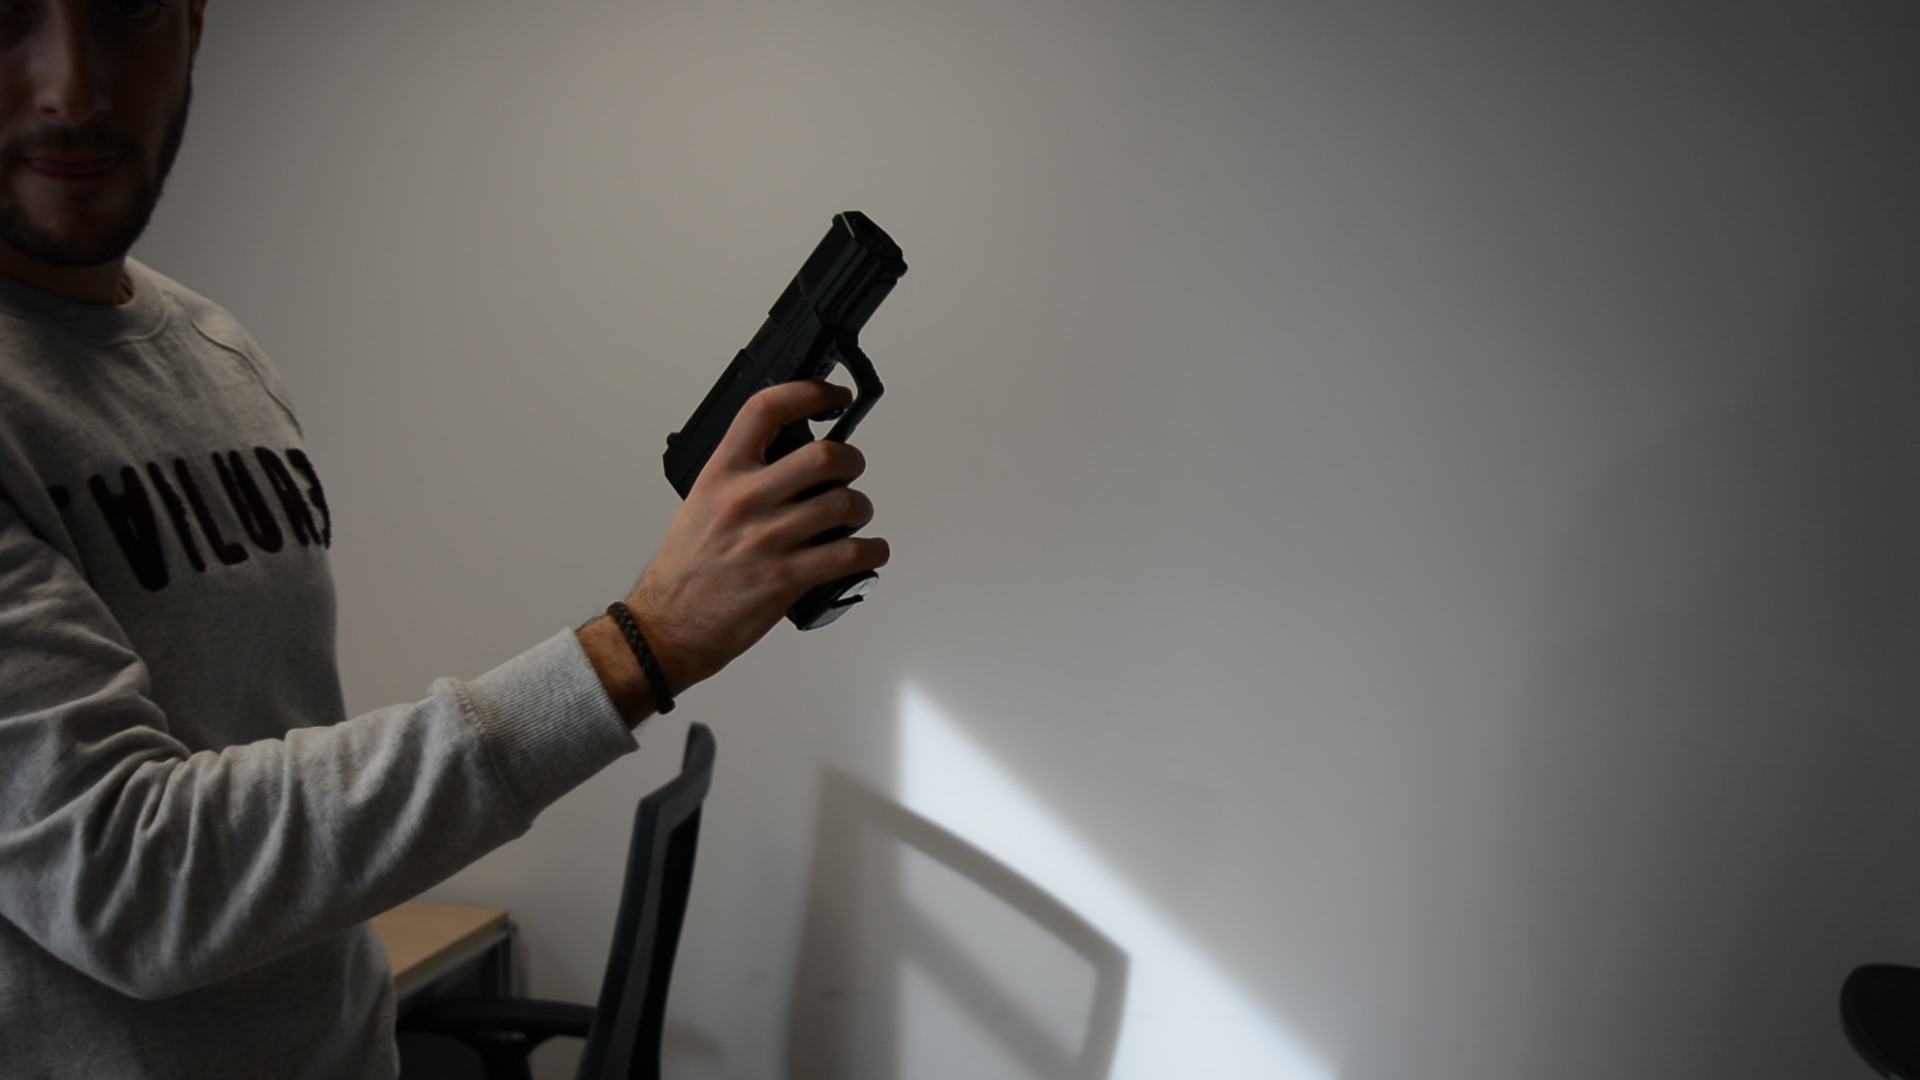pistol: (661, 208, 911, 633)
